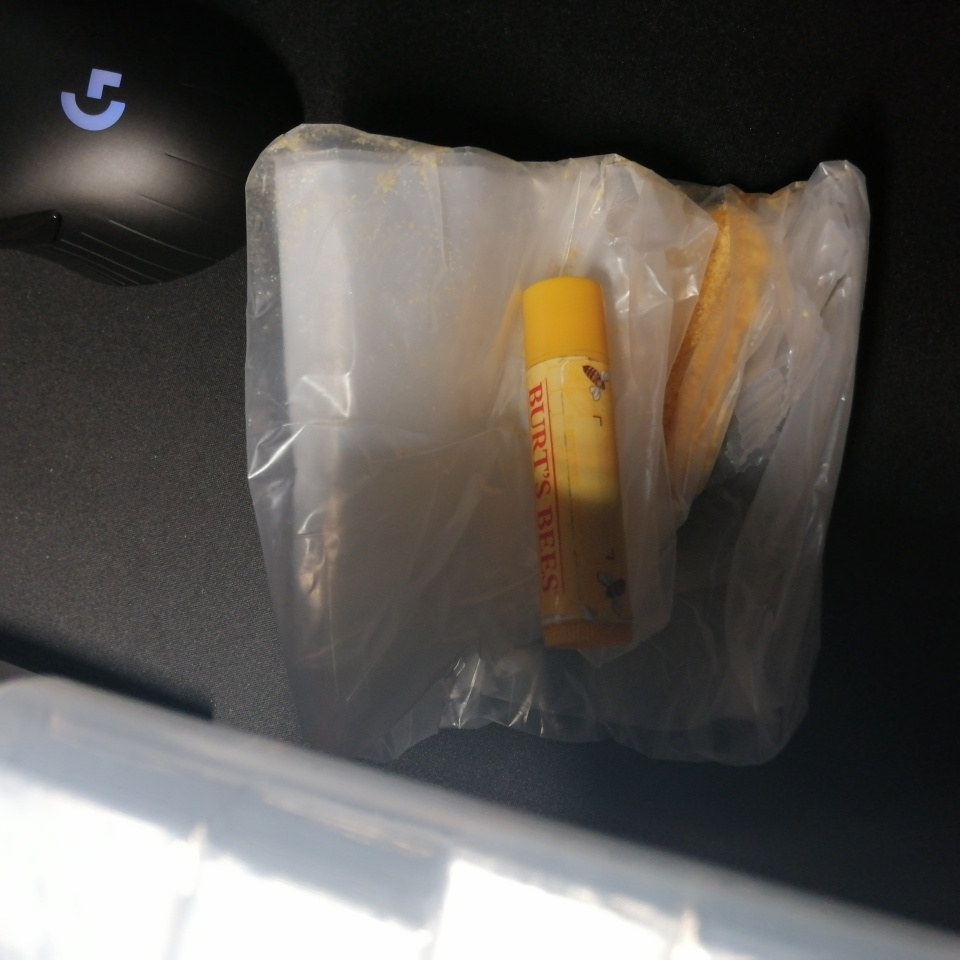chapstick: (519, 274, 634, 650)
